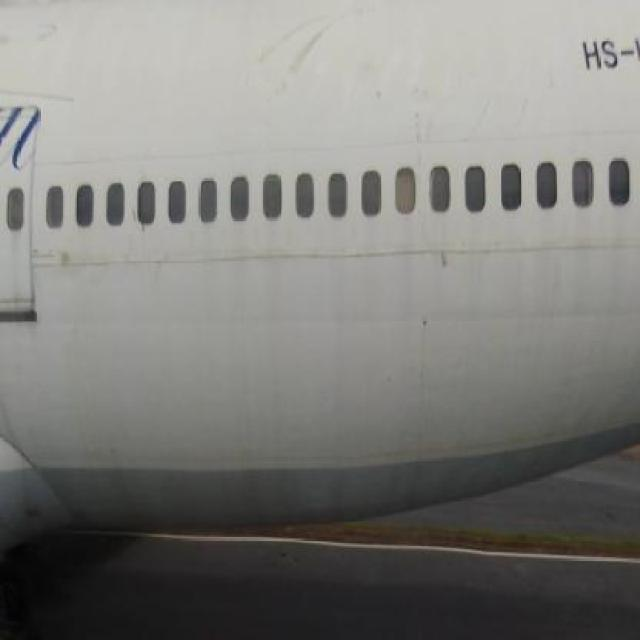Scartch: (252, 5, 348, 109), (416, 240, 464, 342), (468, 89, 542, 142), (406, 83, 442, 172)
